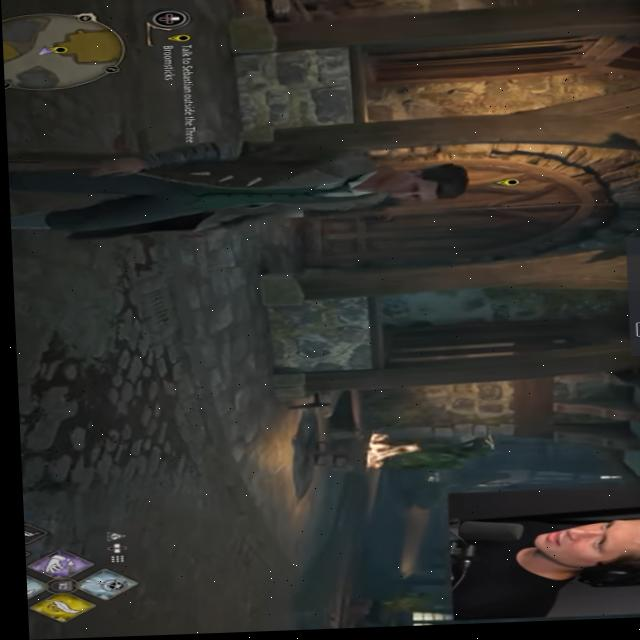compass: (39, 46, 67, 55), (490, 182, 517, 191), (164, 36, 189, 44)
